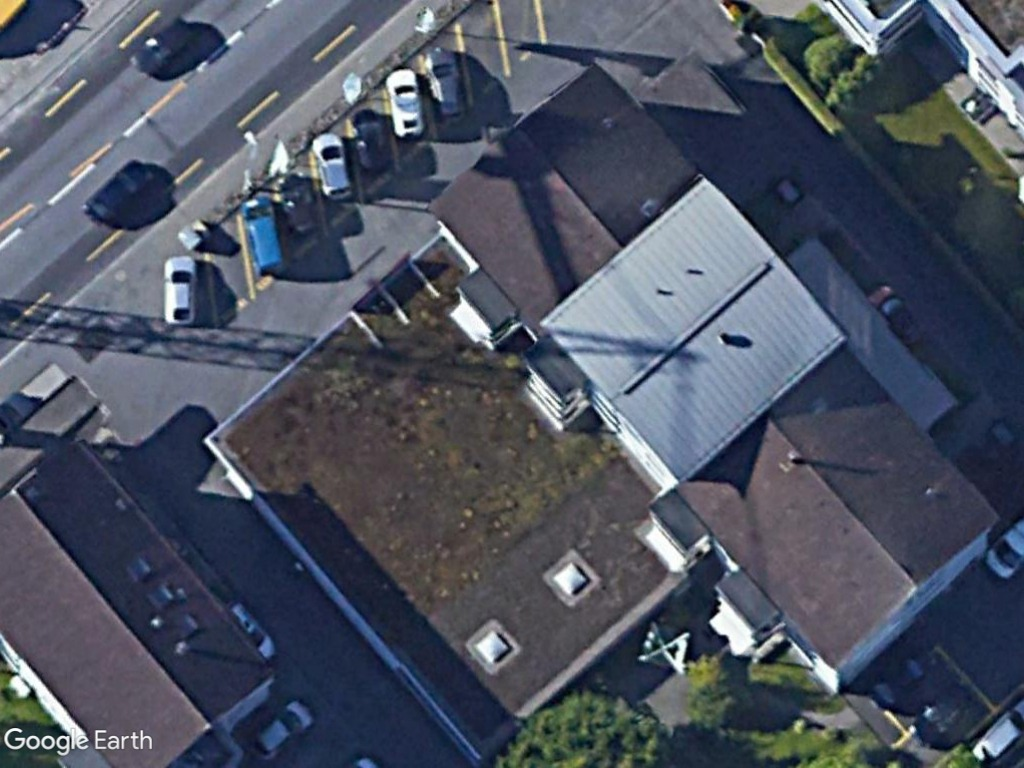car: (421, 45, 466, 124), (307, 130, 354, 200), (386, 68, 430, 142), (158, 251, 199, 330)
van: (236, 195, 287, 279)
